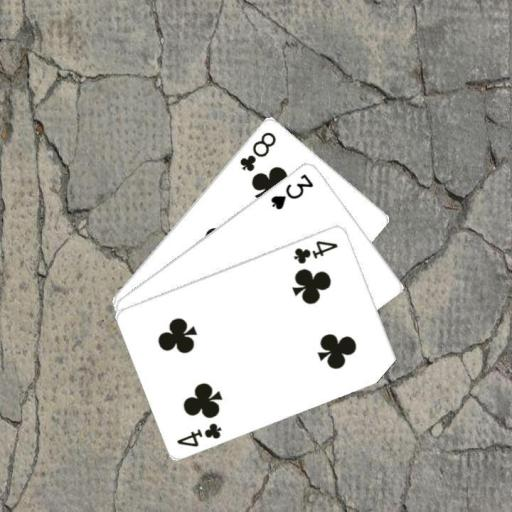3S: (267, 170, 315, 211)
4C: (174, 419, 224, 448), (290, 237, 340, 265)
8C: (236, 128, 278, 173)
